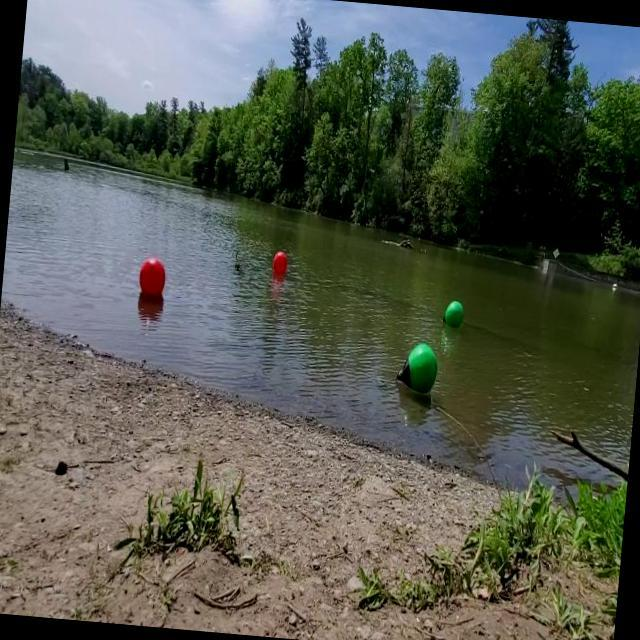buoy: (396, 342, 439, 394), (137, 256, 165, 296), (443, 300, 464, 328), (272, 250, 288, 276)
